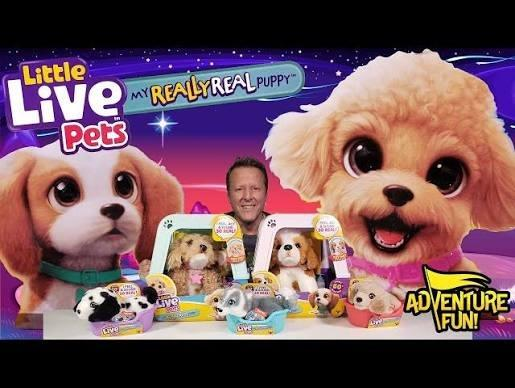non-dog: (210, 155, 282, 279)
puppy-dog: (267, 49, 515, 275), (2, 143, 184, 328), (145, 235, 232, 296), (268, 228, 323, 292), (348, 278, 402, 318), (210, 283, 260, 318), (73, 288, 121, 324), (113, 282, 157, 316), (309, 280, 345, 318), (244, 279, 279, 310)
